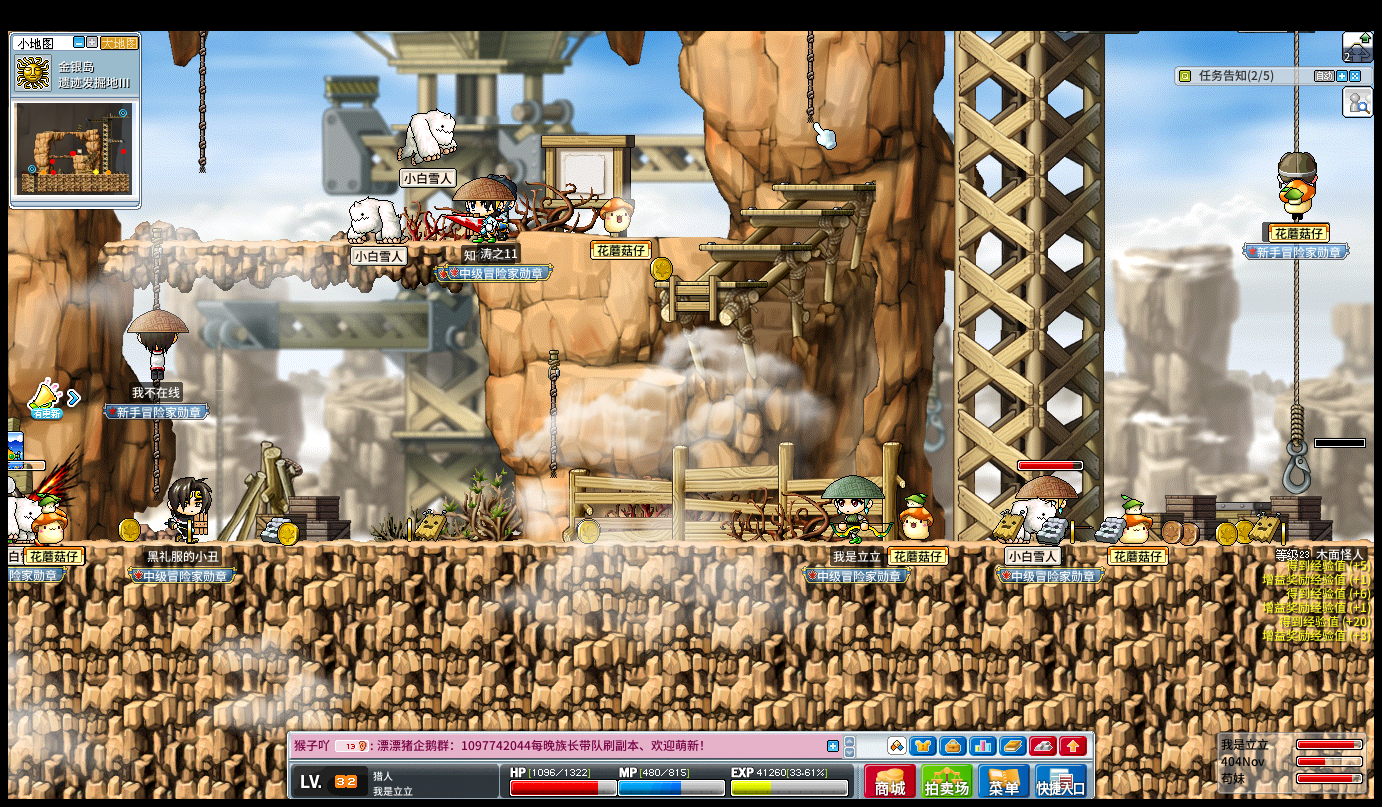floor: (106, 238, 479, 249), (578, 366, 686, 389), (585, 231, 732, 239), (650, 279, 769, 288), (697, 242, 813, 250), (737, 207, 852, 215), (770, 184, 877, 191)
rope: (546, 349, 561, 479), (1292, 256, 1302, 405), (198, 32, 207, 172), (805, 29, 814, 124), (1292, 30, 1299, 148), (152, 228, 162, 307), (1288, 399, 1304, 444), (152, 420, 160, 502)
